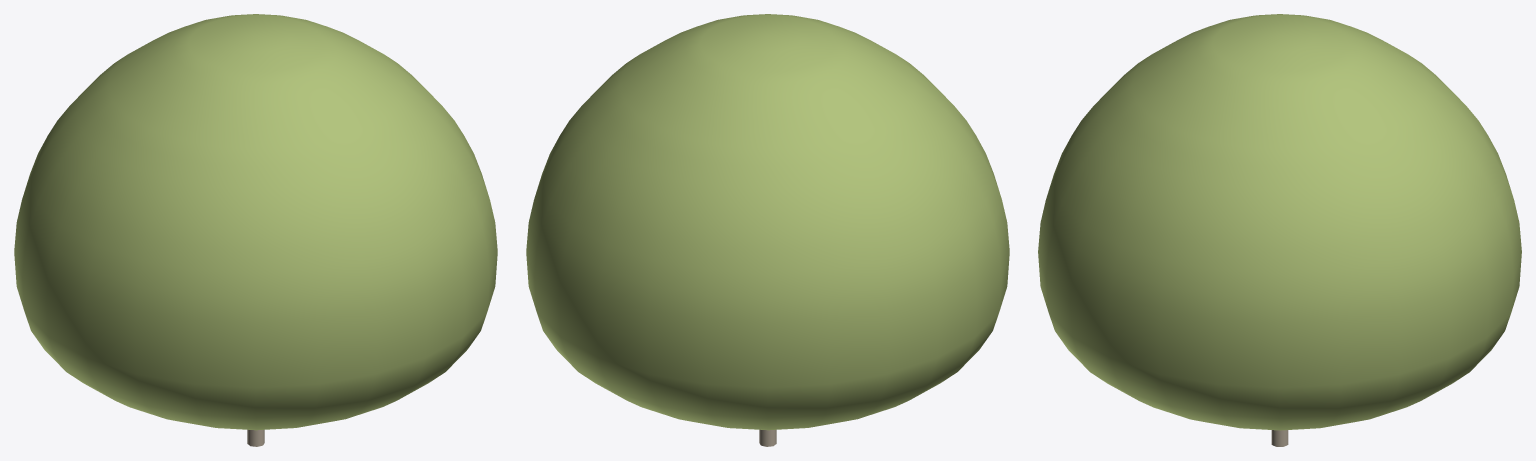
The model's file is JuglansRegia.glb.
The picture shows the model from 3 angles, left to right: view 1: azimuth 30°, elevation 25°; view 2: azimuth 150°, elevation 25°; view 3: azimuth 270°, elevation 25°; orthographic projection.
Visible parts, largest first — view 1: California_Walnut__Schematic_LOD3; view 2: California_Walnut__Schematic_LOD3; view 3: California_Walnut__Schematic_LOD3.
Part boxes in pixels (box(x1,y1,x2,y2)): California_Walnut__Schematic_LOD3: box(14, 14, 497, 446); California_Walnut__Schematic_LOD3: box(526, 14, 1009, 446); California_Walnut__Schematic_LOD3: box(1038, 14, 1521, 446).
Bounding box in the file's own units: 10.92 × 10.16 × 10.92.
